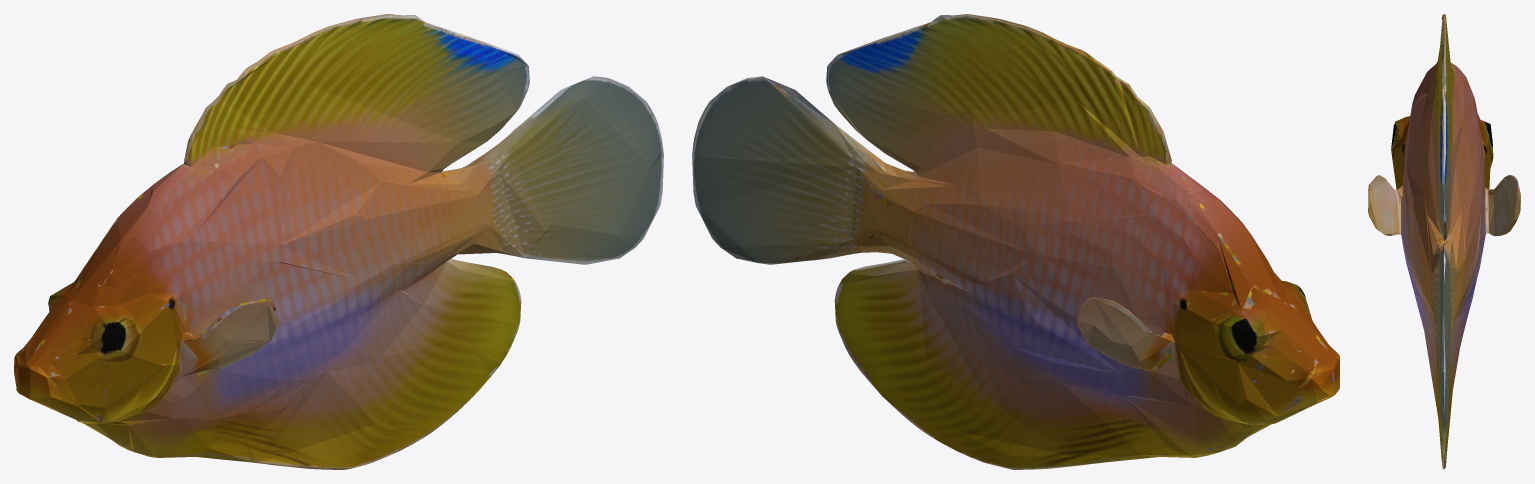
Rendered from fish_0057_smpl23_resized.glb.
The picture shows the model from 3 angles, left to right: view 1: azimuth 30°, elevation 25°; view 2: azimuth 150°, elevation 25°; view 3: azimuth 270°, elevation 25°; orthographic projection. The views are drawn at different scales.
Parts seen in each view (by area): view 1: world; view 2: world; view 3: world.
Part boxes in pixels (left/top/right/bottom): world: left=14, top=14, right=663, bottom=469; world: left=692, top=14, right=1339, bottom=469; world: left=1368, top=14, right=1520, bottom=469.
Size of the model in its own units: 1.99 by 1.32 by 0.4475.
1 material, 1 textured.
